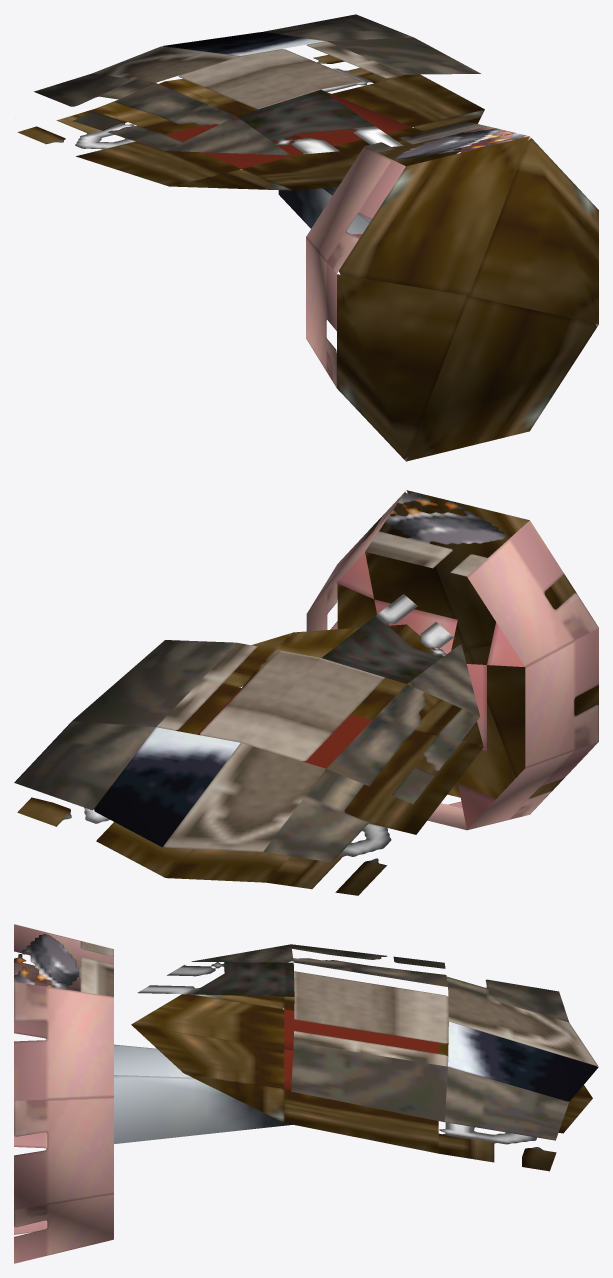
3 views of the same model, one above another, from view 1: azimuth 30°, elevation 25°; view 2: azimuth 150°, elevation 25°; view 3: azimuth 270°, elevation 25° (orthographic). The views are drawn at different scales.
Visible parts, largest first — view 1: T1L1M008_14; view 2: T1L1M008_14; view 3: T1L1M008_14.
Boxes of the visible parts, left/top/right/bottom form: T1L1M008_14: left=17, top=14, right=598, bottom=461; T1L1M008_14: left=14, top=490, right=598, bottom=895; T1L1M008_14: left=14, top=924, right=598, bottom=1263.
Bounding box in the file's own units: 0.4346 × 0.3584 × 0.6738.
